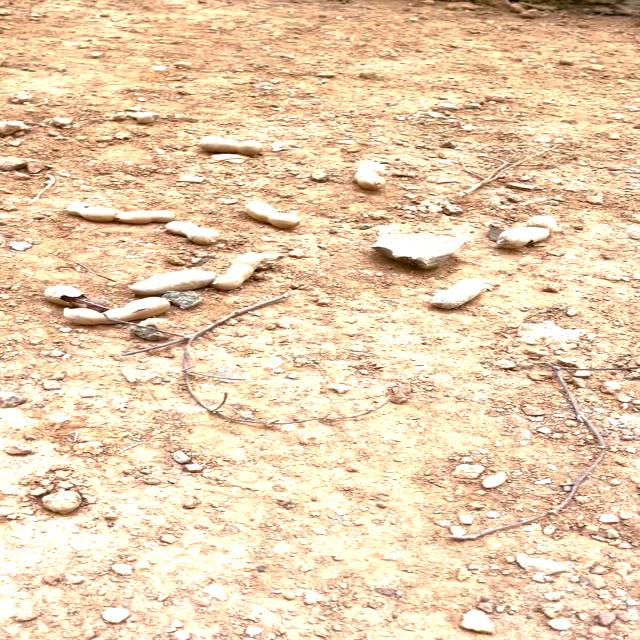tamarind: (60, 294, 165, 330), (125, 264, 221, 298), (212, 249, 274, 294), (491, 213, 565, 249), (428, 276, 492, 313), (242, 198, 304, 232), (191, 136, 275, 154), (166, 221, 224, 247), (349, 156, 388, 193), (113, 206, 185, 226), (66, 202, 127, 225)
